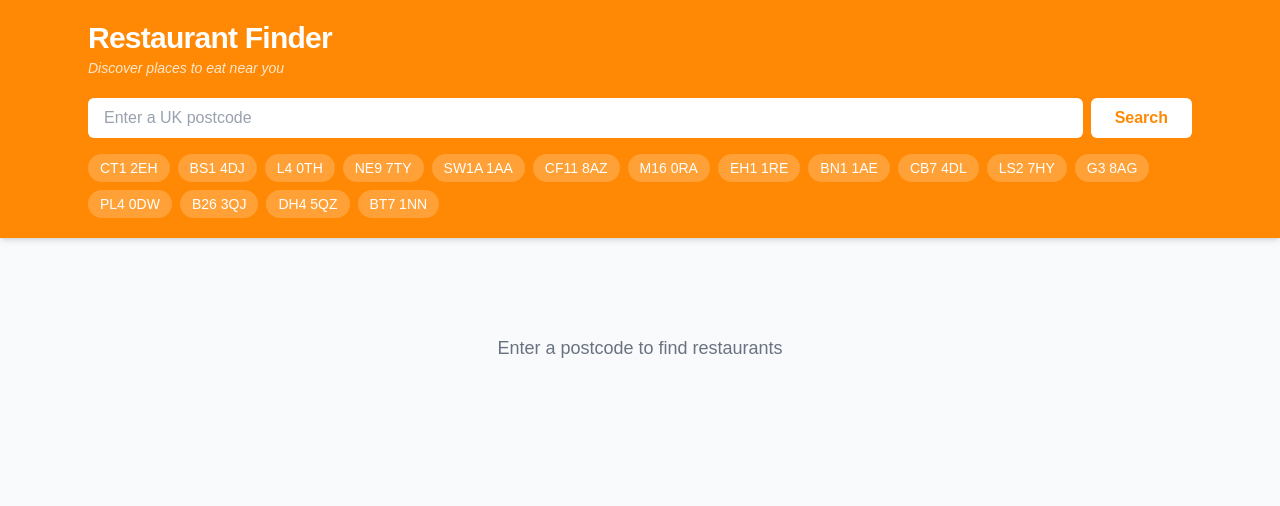
Home page › shows restaurants after a successful search
Type "SW1A 1AA" into the field with placeholder "Enter a UK postcode" at (585, 118), box [88,98,1083,138]
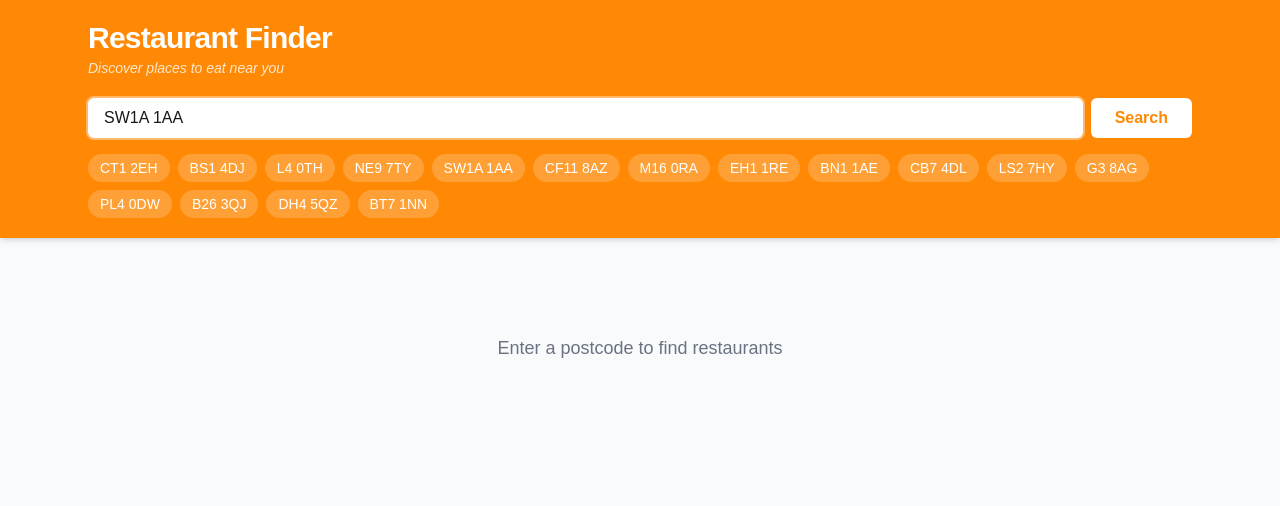
Click the button "Search" at (1141, 118), box [1091,98,1192,138]
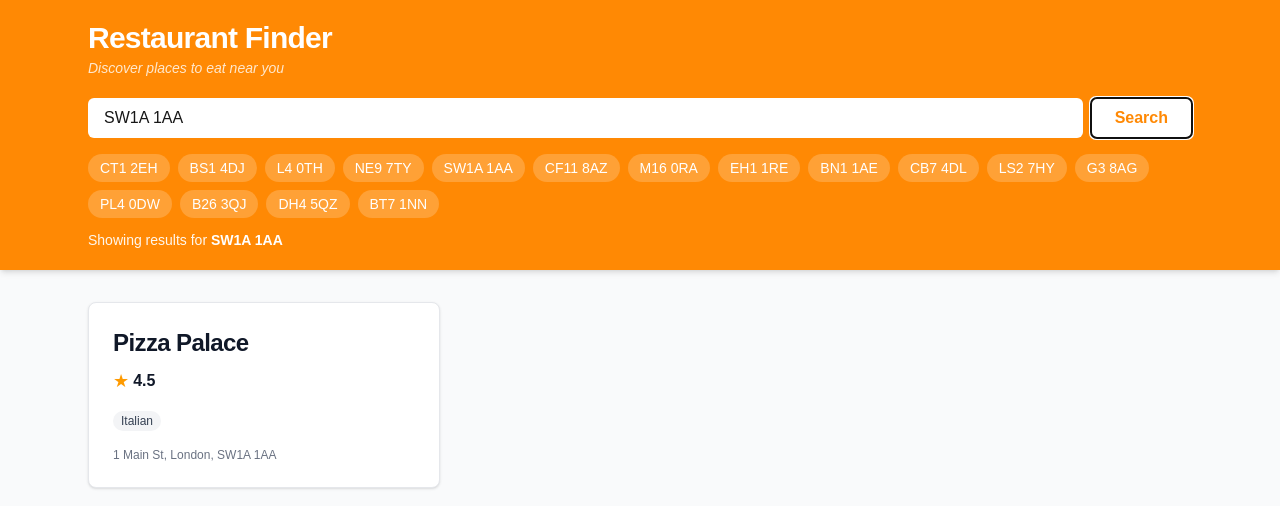
Check: the heading "Pizza Palace" is shown, box [113,329,249,356]
Check: the text "Italian" is shown, box [113,411,161,431]
Check: the text "4.5" is shown, box [133,369,155,393]
